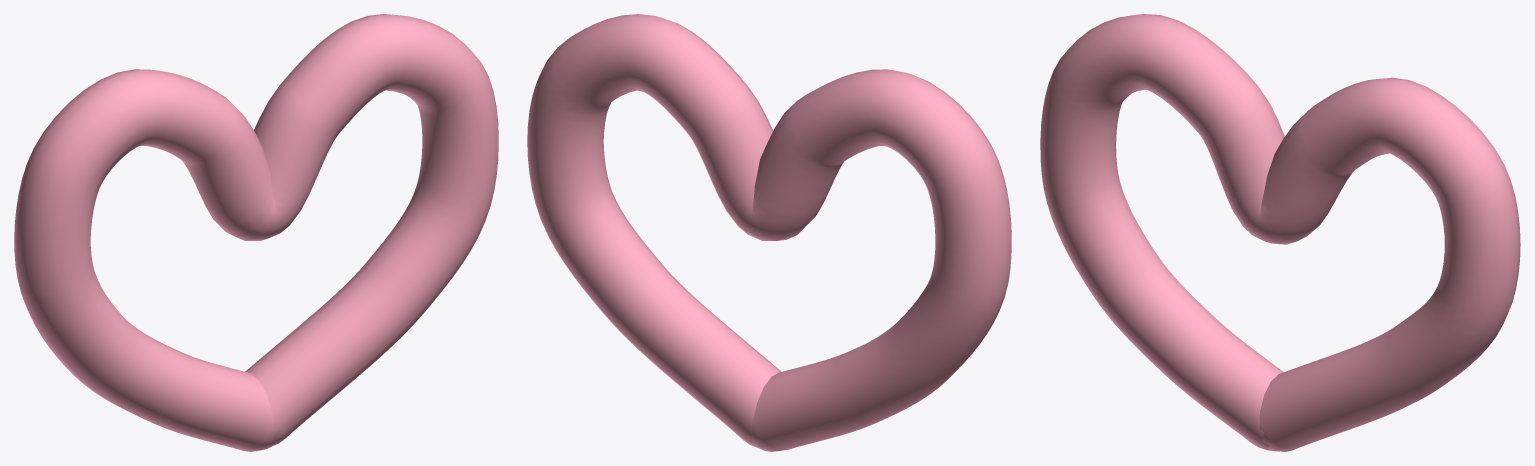
The model's file is heart.fbx.
3 renders of one model, left to right at view 1: azimuth 30°, elevation 25°; view 2: azimuth 150°, elevation 25°; view 3: azimuth 330°, elevation 25°, orthographic.
Visible parts, largest first — view 1: root; view 2: root; view 3: root.
Part boxes in pixels (x1,y1,x2,y2): root: [14, 14, 498, 451]; root: [527, 14, 1011, 451]; root: [1040, 14, 1520, 451].
Bounding box in the file's own units: 0.426 × 0.3464 × 0.0593.
Materials: 1 (1 with a texture image).
